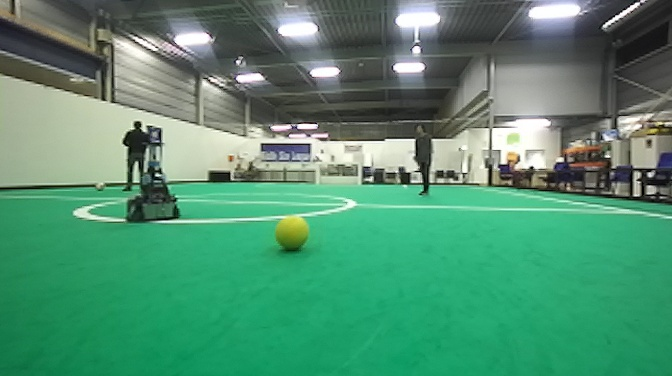ball: (273, 212, 311, 254), (92, 180, 108, 194)
goal: (314, 160, 364, 189)
goalpost: (355, 161, 364, 188), (314, 162, 320, 188)
human: (121, 120, 151, 194), (410, 119, 436, 198)
robot: (125, 139, 181, 228)
